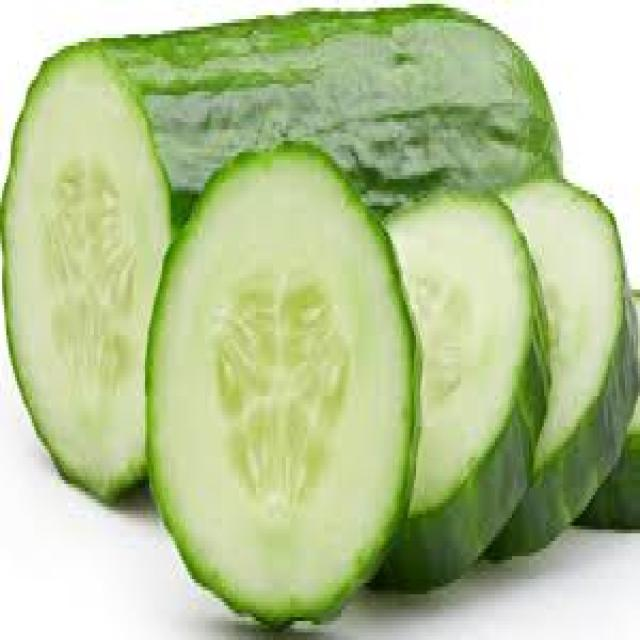Pickle: (2, 7, 562, 497), (146, 147, 421, 622), (382, 194, 549, 586), (489, 181, 638, 555)
